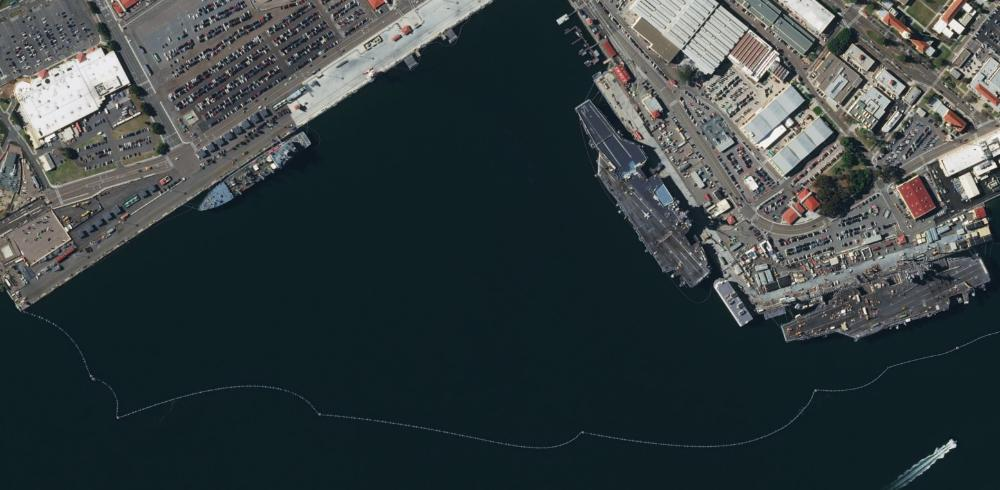tender: (194, 129, 320, 225)
